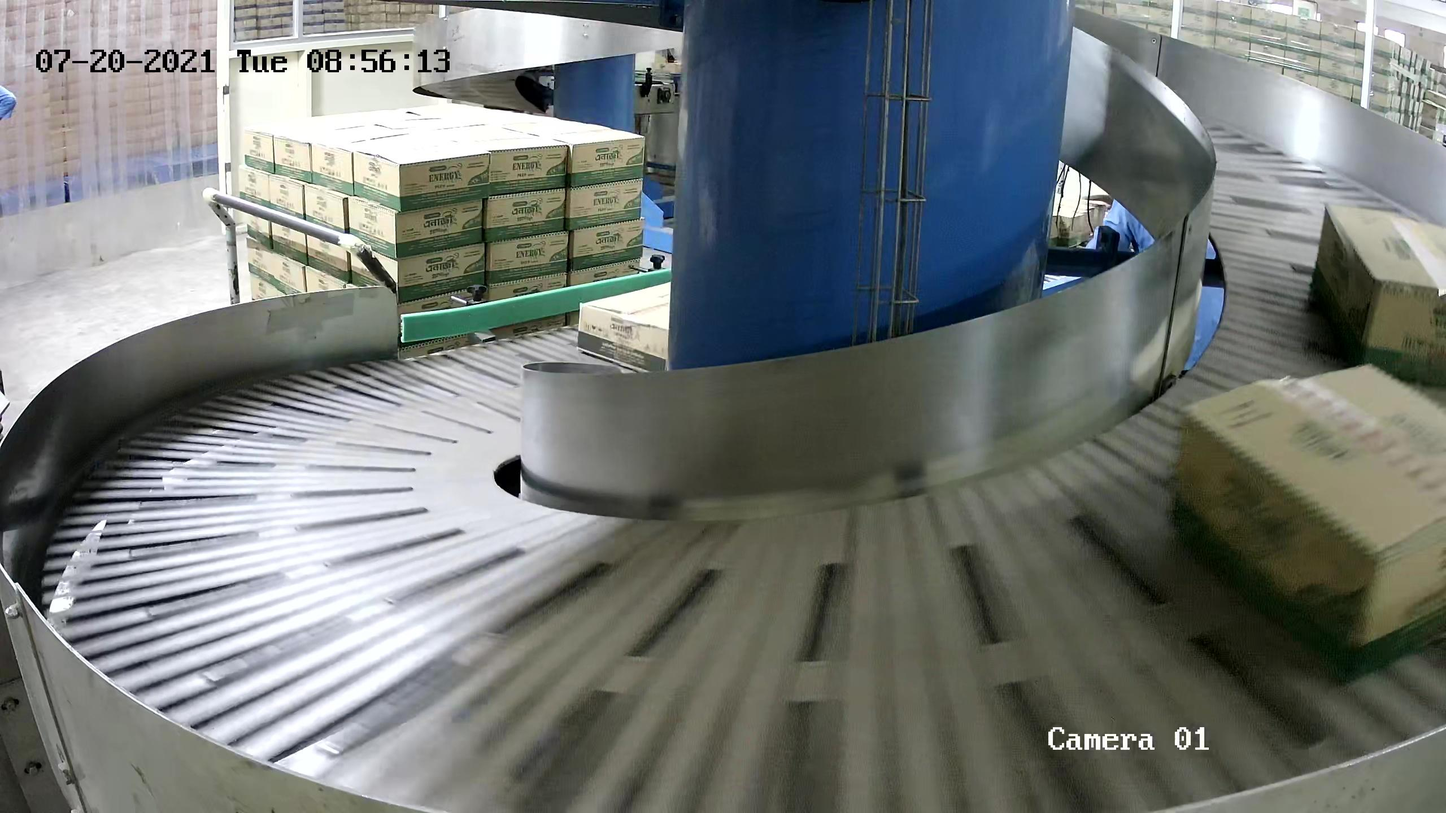Box: (1169, 359, 1446, 688), (1308, 199, 1446, 390), (575, 279, 670, 371)
